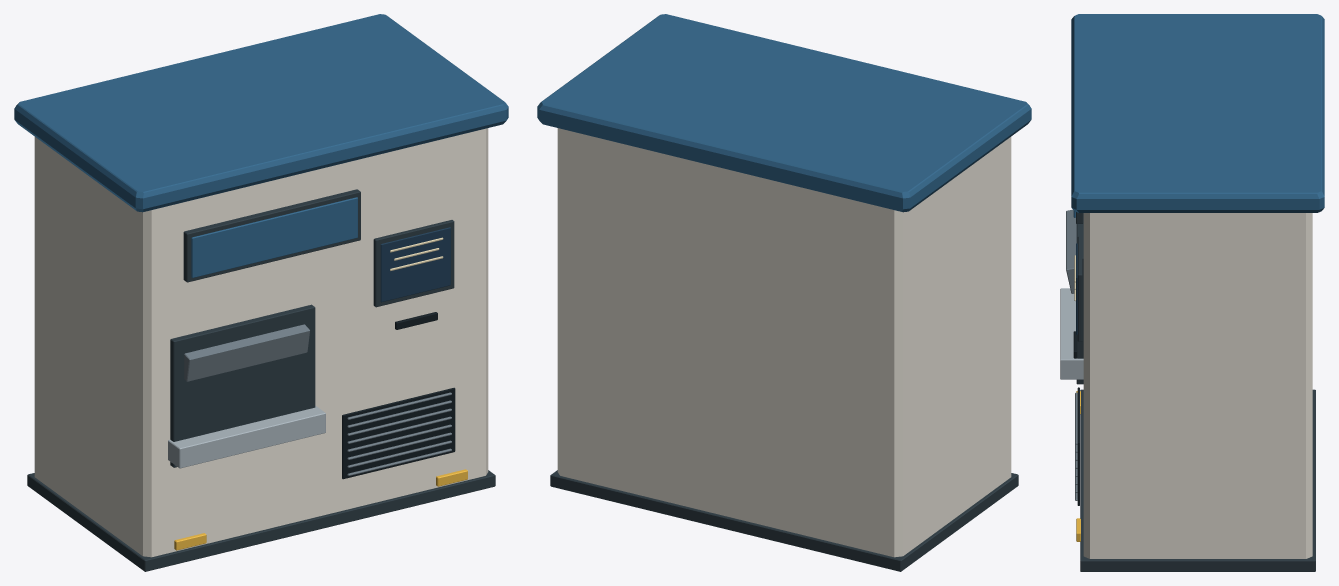
The model's file is b10_automated_ice_bag_vending_kiosk.glb.
The picture shows the model from 3 angles, left to right: view 1: azimuth 30°, elevation 25°; view 2: azimuth 150°, elevation 25°; view 3: azimuth 270°, elevation 25°; orthographic projection.
Parts seen in each view (by area): view 1: b10_automated_ice_bag_vending_kiosk; view 2: b10_automated_ice_bag_vending_kiosk; view 3: b10_automated_ice_bag_vending_kiosk.
Part boxes in pixels (x1,y1,x2,y2): b10_automated_ice_bag_vending_kiosk: (14, 14, 508, 571); b10_automated_ice_bag_vending_kiosk: (537, 14, 1031, 571); b10_automated_ice_bag_vending_kiosk: (1060, 14, 1324, 571).
Bounding box in the file's own units: 2.31 × 2.27 × 1.42.
